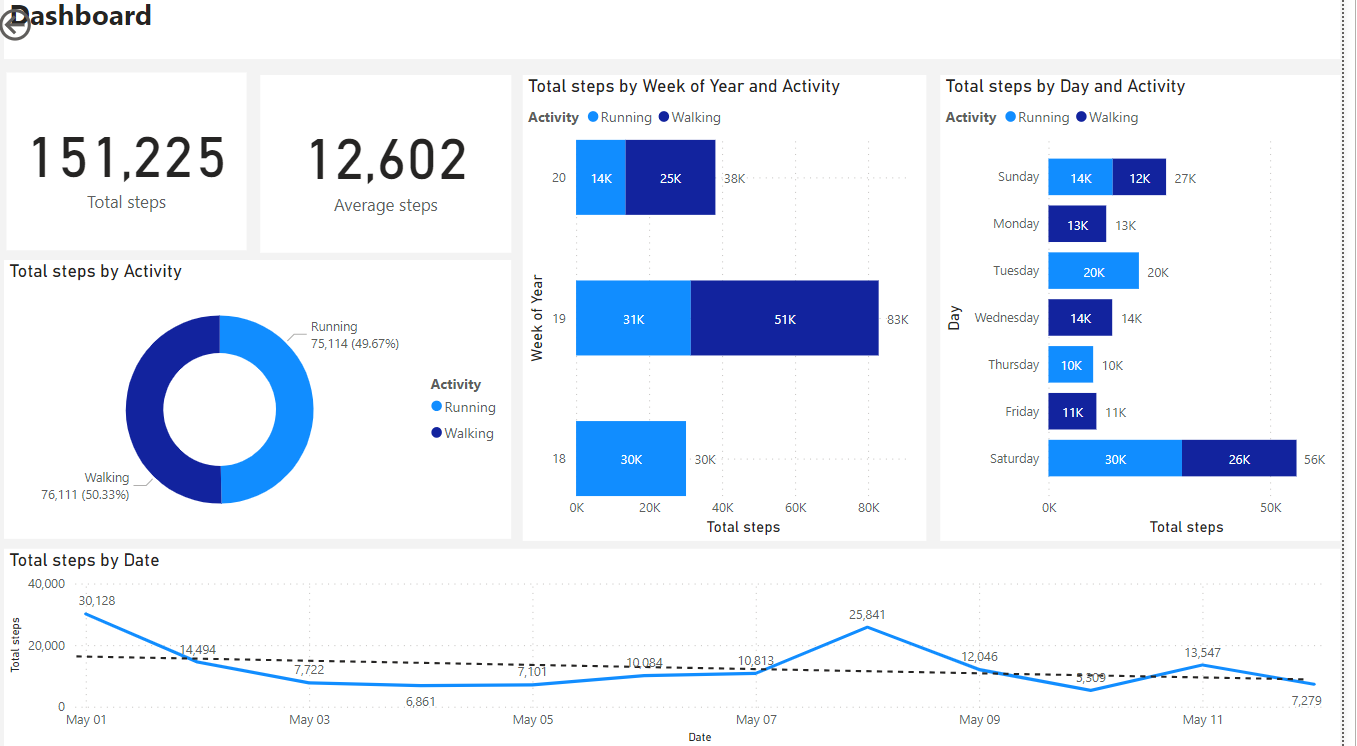

The dashboard page shown, as its layout file describes it:
{"tool":"powerbi","page":{"name":"Page 1","canvas":[1280,720],"ordinal":0},"visuals":[{"type":"textbox","box":[9.5,0,1268.9,65.3],"z":0},{"type":"actionButton","box":[0,13.1,99.7,40.4],"z":1000},{"type":"card","fields":{"Values":["Basic Calculations.Total steps"]},"box":[11.9,78.3,227.9,168.5],"z":2000},{"type":"card","fields":{"Values":["Basic Calculations.Average steps"]},"box":[252.8,80.5,238.6,168.5],"z":3000},{"type":"donutChart","fields":{"Y":["Basic Calculations.Total steps"],"Series":["DIM_Activity.ActivityName"]},"box":[9.5,256.4,481.9,264.7],"z":4000},{"type":"lineChart","fields":{"Y":["Basic Calculations.Total steps"],"Category":["FACT_Activity.Date"]},"box":[9.5,530.6,1268.9,189.9],"z":5000},{"type":"barChart","fields":{"Category":["DIM_Date.Week of Year"],"Y":["Basic Calculations.Total steps"],"Series":["DIM_Activity.ActivityName"]},"box":[502.1,80.7,383.4,442.7],"z":6000},{"type":"barChart","fields":{"Y":["Basic Calculations.Total steps"],"Series":["DIM_Activity.ActivityName"],"Category":["DIM_Date.Day Name"]},"box":[898.5,80.7,379.8,442.7],"z":6001}]}

Visuals, with their boxes in screenshot pixels (x1, y1, x2, y2), scaled from the page's 1280x720 canvas onto the 1357x746 screenshot:
textbox: [10, 0, 1355, 68]
actionButton: [0, 14, 106, 55]
card - Basic Calculations.Total steps: [13, 81, 254, 256]
card - Basic Calculations.Average steps: [268, 83, 521, 258]
donutChart - Basic Calculations.Total steps x DIM_Activity.ActivityName: [10, 266, 521, 540]
lineChart - Basic Calculations.Total steps x FACT_Activity.Date: [10, 550, 1355, 745]
barChart - DIM_Date.Week of Year x Basic Calculations.Total steps: [532, 84, 939, 542]
barChart - Basic Calculations.Total steps x DIM_Activity.ActivityName: [953, 84, 1355, 542]
